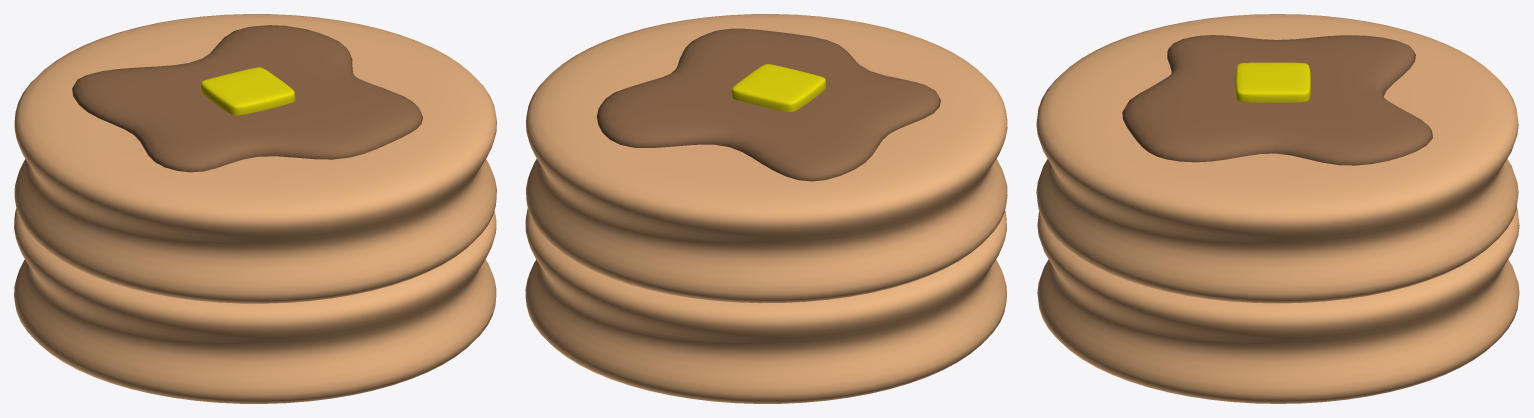
The model's file is pancake2.fbx.
3 renders of one model, left to right at view 1: azimuth 30°, elevation 25°; view 2: azimuth 150°, elevation 25°; view 3: azimuth 270°, elevation 25°, orthographic.
Parts seen in each view (by area): view 1: 円柱, 円柱.001, 平面, 立方体; view 2: 円柱, 円柱.001, 平面, 立方体; view 3: 円柱, 円柱.001, 平面, 立方体.
Boxes of the visible parts, x1,y1,x2,y2 form: 円柱: [14, 14, 496, 303]; 円柱.001: [14, 208, 496, 403]; 平面: [72, 25, 422, 172]; 立方体: [200, 67, 295, 115]; 円柱: [526, 14, 1007, 303]; 円柱.001: [525, 208, 1006, 403]; 平面: [596, 28, 940, 181]; 立方体: [731, 64, 825, 111]; 円柱: [1036, 14, 1518, 303]; 円柱.001: [1037, 208, 1519, 403]; 平面: [1122, 35, 1432, 165]; 立方体: [1235, 62, 1310, 102].
Bounding box in the file's own units: 193 × 102 × 194.
